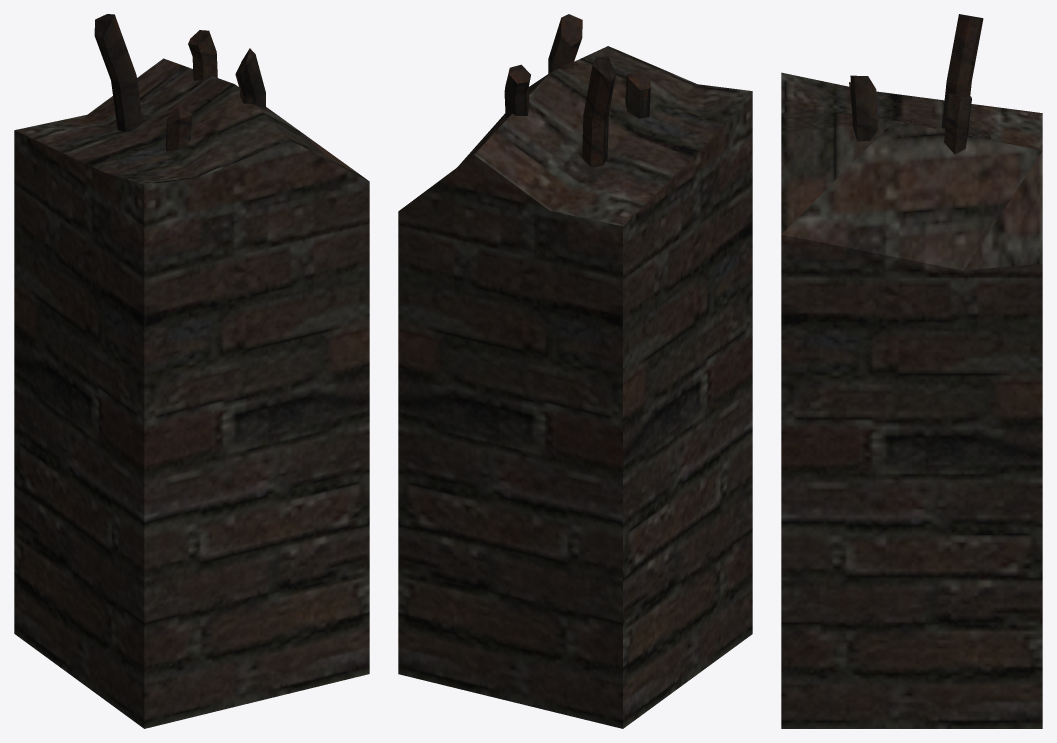
File: pillar_hs_1_broken.dae
The picture shows the model from 3 angles, left to right: view 1: azimuth 30°, elevation 25°; view 2: azimuth 150°, elevation 25°; view 3: azimuth 270°, elevation 25°; orthographic projection.
Visible parts, largest first — view 1: pillar_hs_1_broken; view 2: pillar_hs_1_broken; view 3: pillar_hs_1_broken.
Part boxes in pixels (bbox=[...]): pillar_hs_1_broken: bbox=[14, 14, 369, 728]; pillar_hs_1_broken: bbox=[398, 14, 752, 728]; pillar_hs_1_broken: bbox=[781, 14, 1042, 728].
Size of the model in its own units: 0.6 by 0.6 by 1.6.
Materials: 2 (2 with a texture image).
